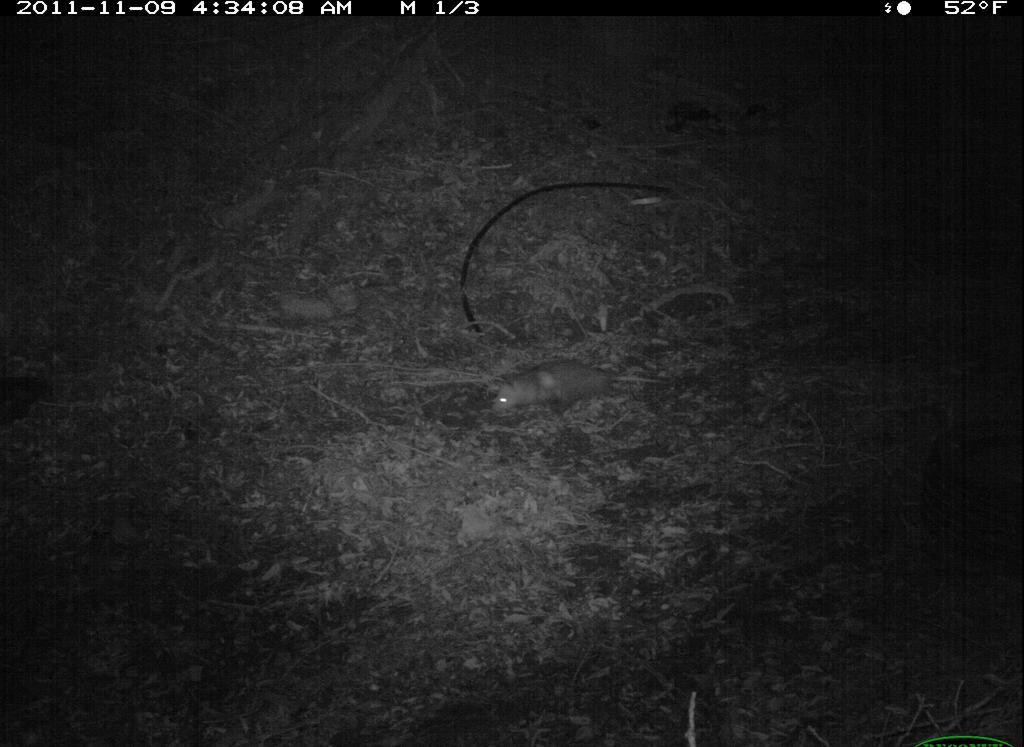opossum: (483, 355, 674, 434)
